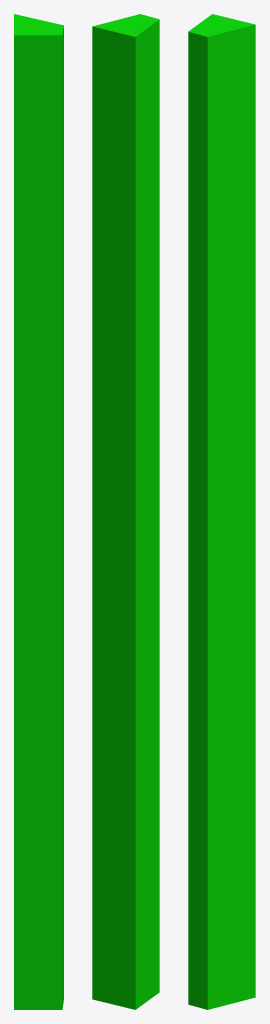
3 views of the same model, side by side, from view 1: azimuth 90°, elevation 25°; view 2: azimuth 150°, elevation 25°; view 3: azimuth 330°, elevation 25° (orthographic).
Parts seen in each view (by area): view 1: Plane.031; view 2: Plane.031; view 3: Plane.031.
Part boxes in pixels (left/top/right/bottom): Plane.031: left=14, top=14, right=63, bottom=1009; Plane.031: left=92, top=14, right=159, bottom=1009; Plane.031: left=188, top=14, right=255, bottom=1009.
Size of the model in its own units: 513 by 11014 by 509.
